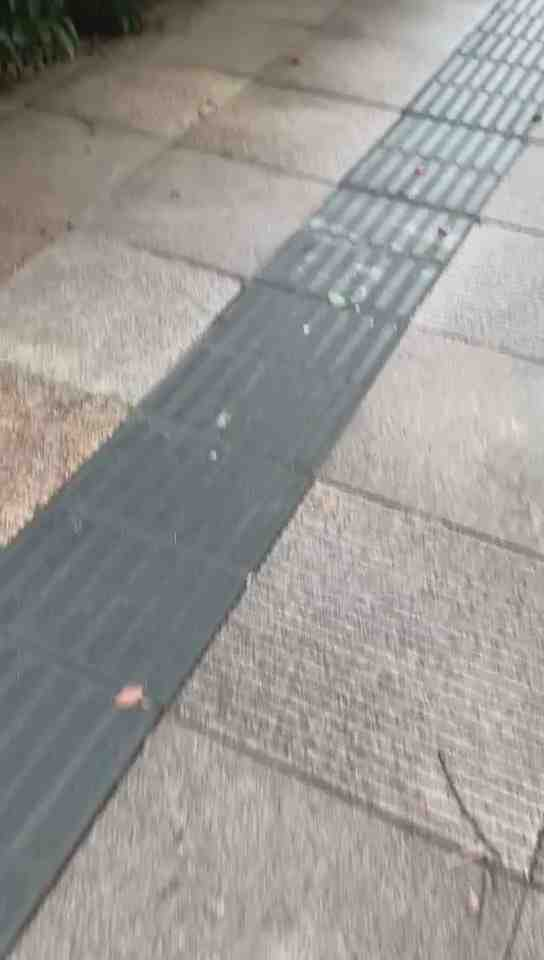leaf: (112, 674, 147, 714)
